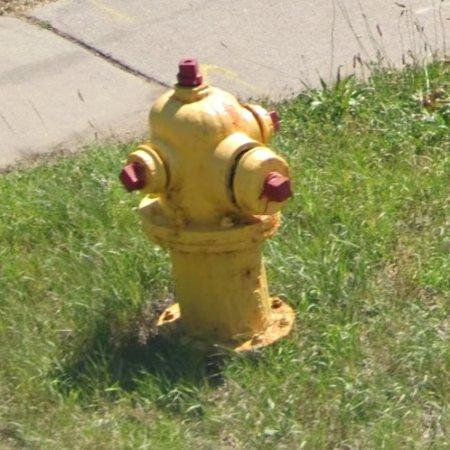a fire hydrant: (120, 58, 295, 349)
